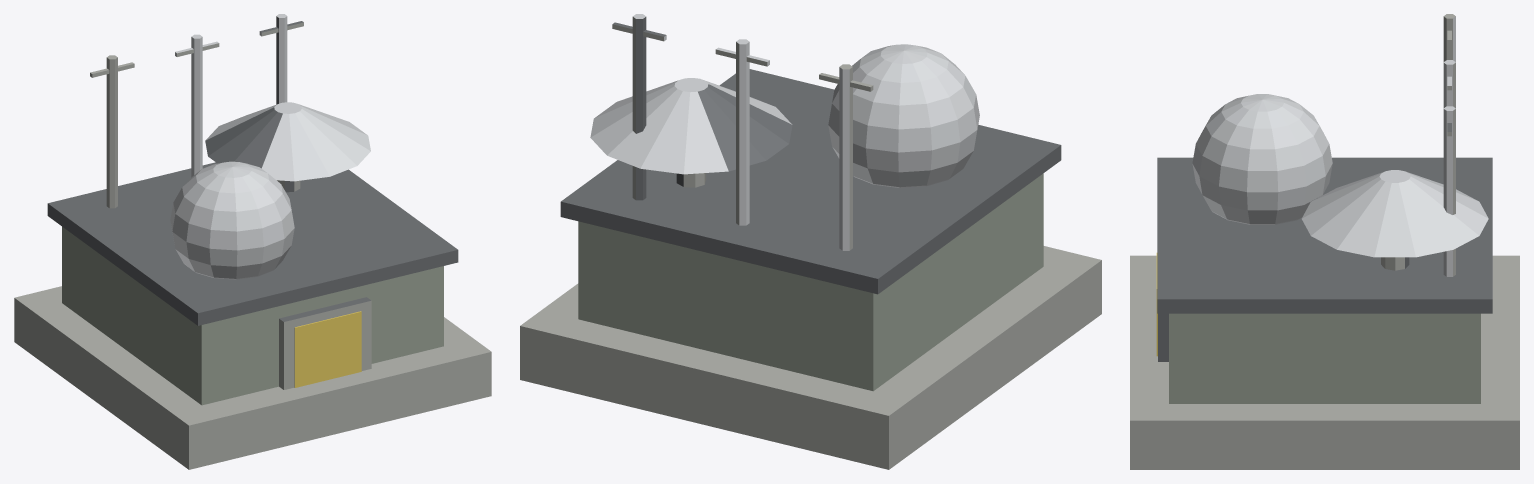
File: tech_lab.glb
The picture shows the model from 3 angles, left to right: view 1: azimuth 30°, elevation 25°; view 2: azimuth 150°, elevation 25°; view 3: azimuth 270°, elevation 25°; orthographic projection. The views are drawn at different scales.
Visible parts, largest first — view 1: tech_lab; view 2: tech_lab; view 3: tech_lab.
Boxes of the visible parts, x1,y1,x2,y2 form: tech_lab: [14, 14, 491, 469]; tech_lab: [520, 14, 1101, 469]; tech_lab: [1130, 14, 1519, 469].
Size of the model in its own units: 5 by 4.6 by 5.
